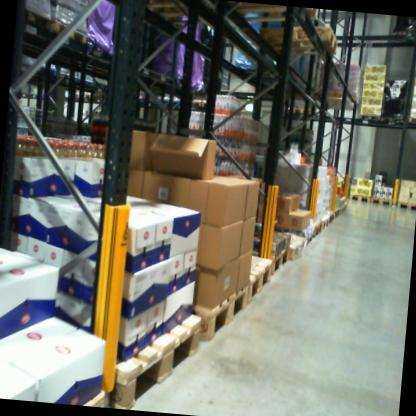pallet: (78, 301, 207, 413), (122, 0, 322, 42), (204, 250, 275, 332), (179, 270, 248, 352), (246, 12, 341, 65), (242, 239, 290, 285), (48, 14, 95, 50), (271, 96, 327, 124), (269, 222, 315, 251), (319, 85, 360, 117), (274, 232, 306, 269), (379, 106, 410, 128), (391, 197, 416, 217), (369, 194, 397, 208), (307, 219, 323, 241), (316, 211, 330, 233), (350, 192, 372, 206), (362, 113, 381, 125), (327, 208, 334, 226), (407, 113, 416, 127)
